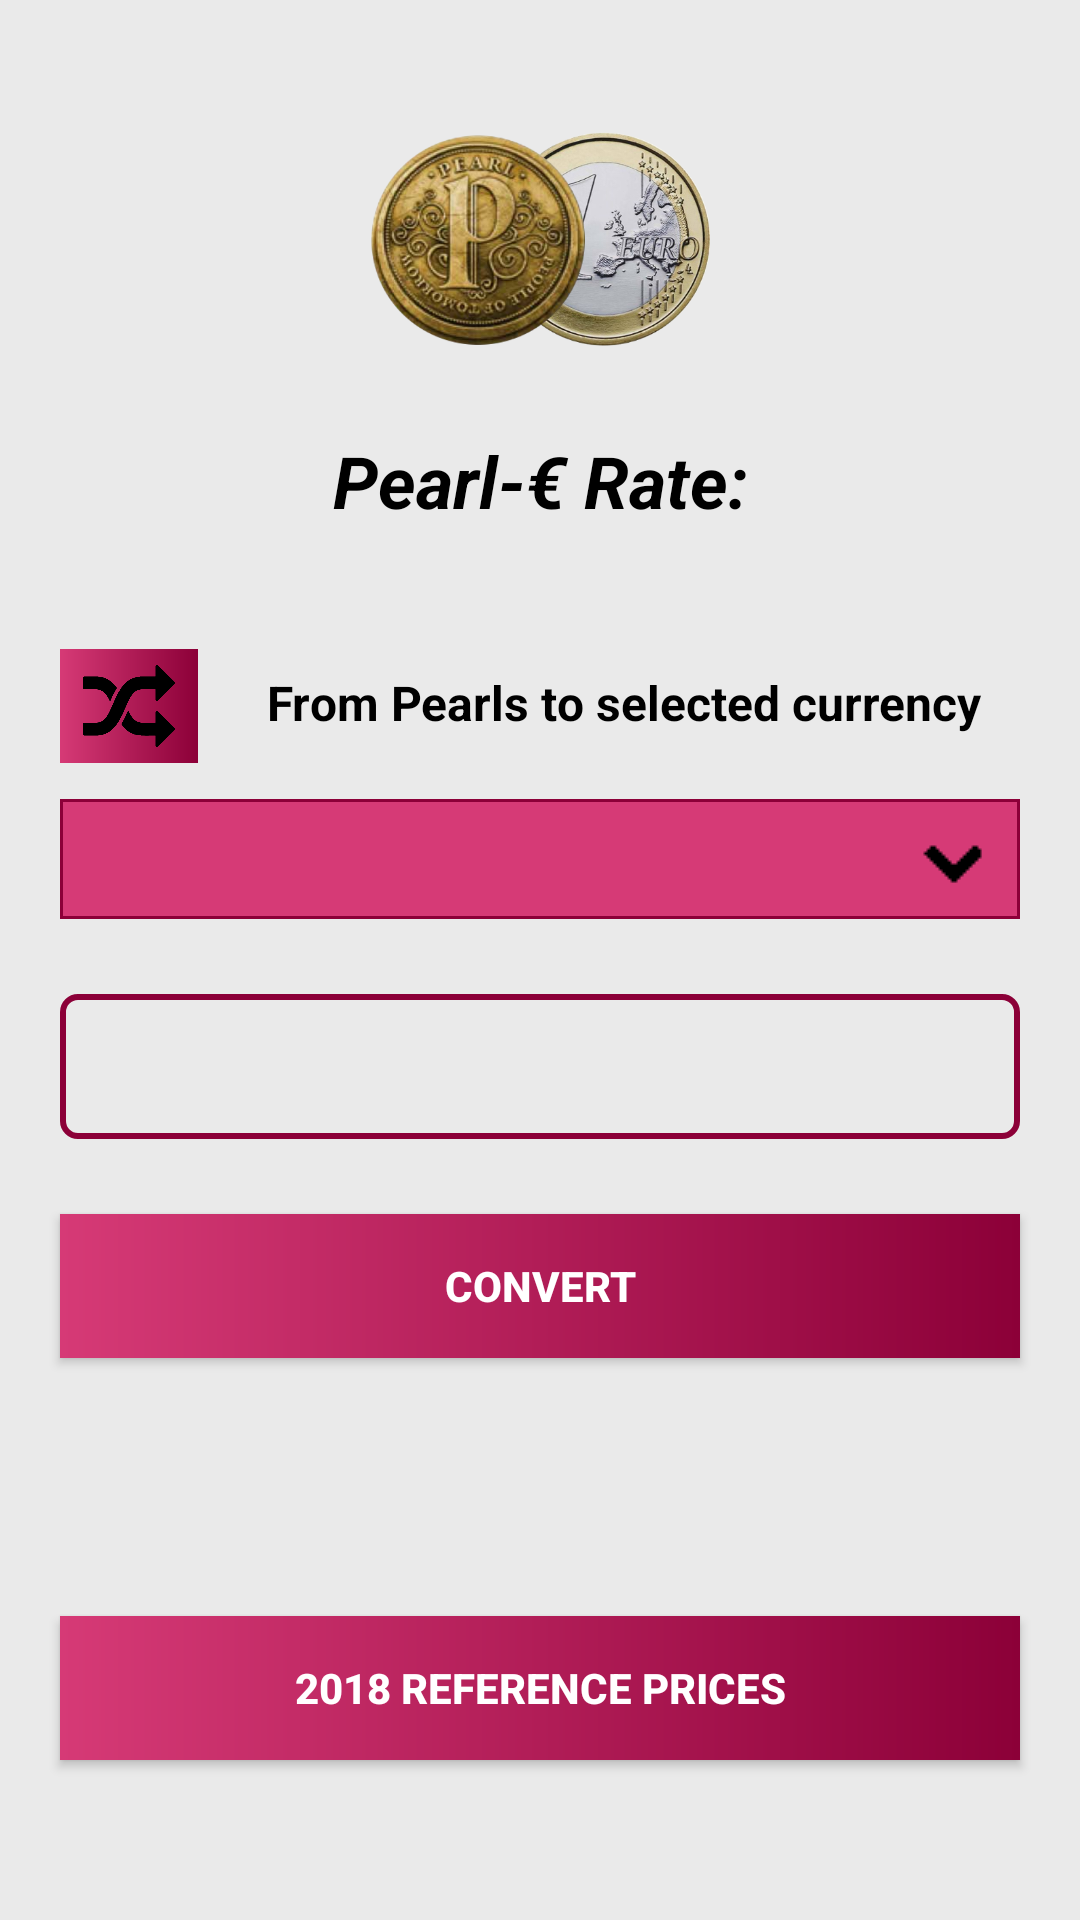

Where to tap for icons on this 1080*1920 app screen, as [x,y]:
arrows: [129,706]
